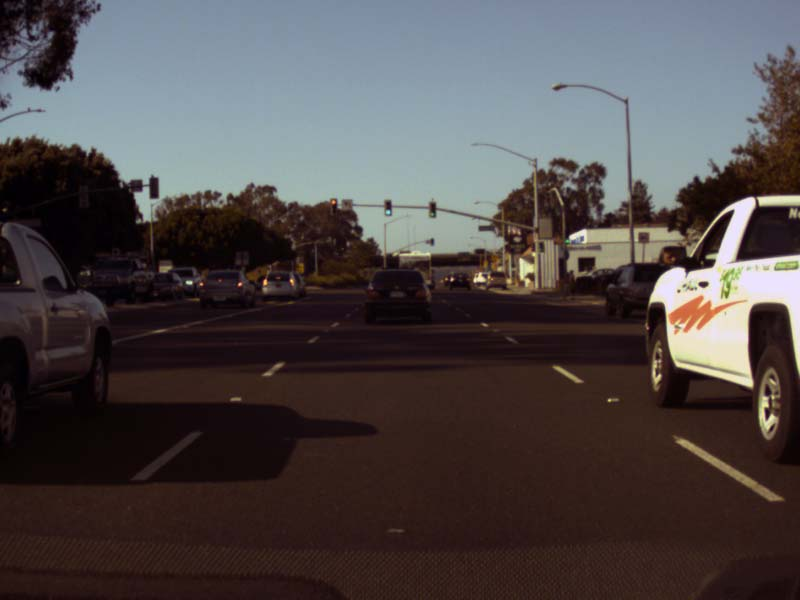Green: (384, 199, 392, 216), (538, 242, 544, 251), (564, 238, 569, 243)
Red: (428, 201, 436, 218), (329, 198, 337, 215)
